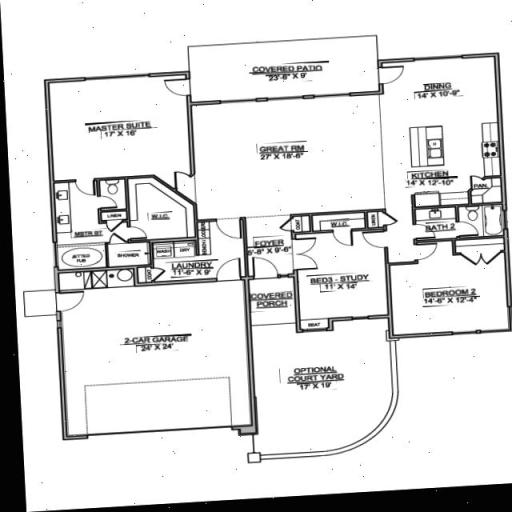Room: (297, 251, 381, 317), (58, 182, 130, 240), (154, 240, 246, 280)
bathroom: (383, 206, 504, 246)
bedroom: (393, 258, 512, 333)
garage: (54, 290, 250, 425)
hall: (194, 102, 380, 213), (52, 83, 188, 171)
kitchen: (384, 68, 495, 200)
